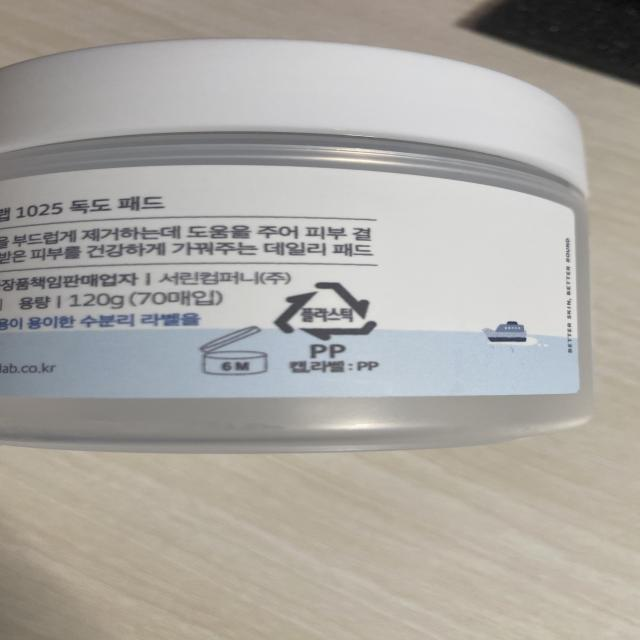Plastic: (272, 280, 384, 341)
